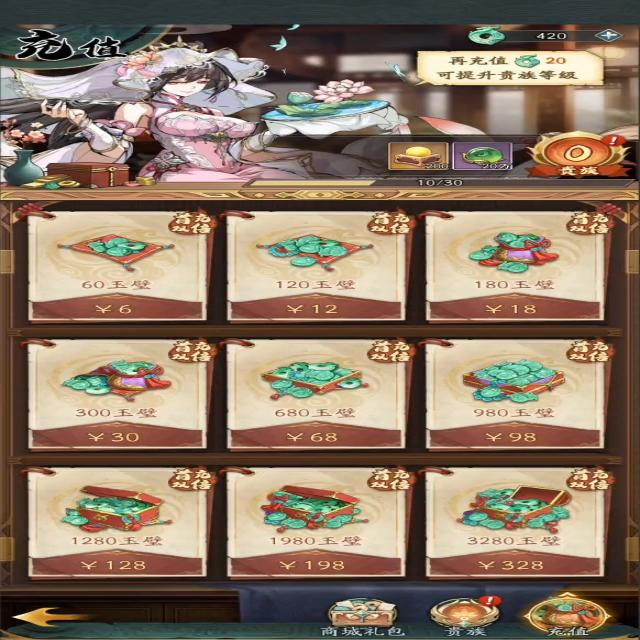hint-reddot: (593, 131, 630, 148), (478, 593, 504, 607)
operation-back: (5, 601, 105, 633)
